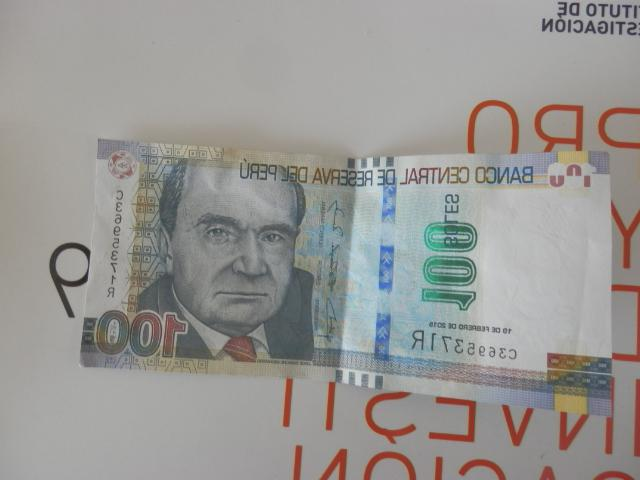B100: (79, 139, 610, 416)
